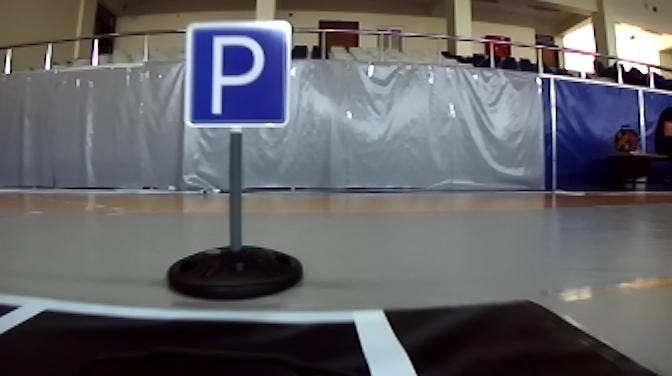park: (185, 19, 291, 129)
